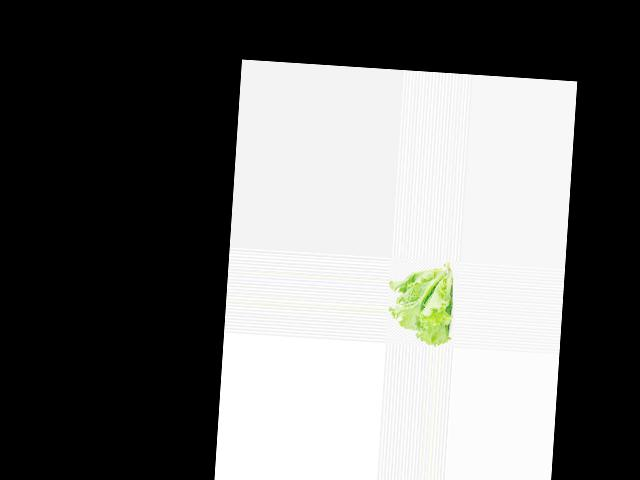lettuce: (386, 257, 454, 346)
